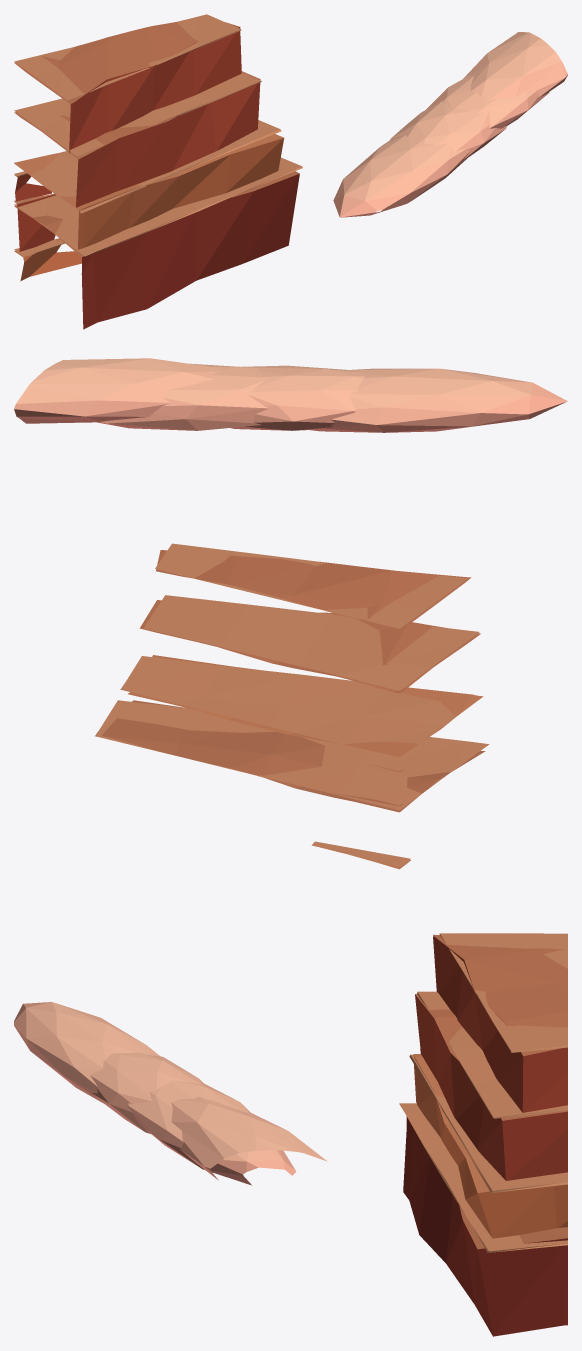
3 views of the same model, one above another, from view 1: azimuth 30°, elevation 25°; view 2: azimuth 150°, elevation 25°; view 3: azimuth 270°, elevation 25° (orthographic). The views are drawn at different scales.
Parts seen in each view (by area): view 1: scene.5.6 (×2); view 2: scene.5.6 (×2); view 3: scene.5.6 (×2).
Part boxes in pixels (x1,y1,x2,y2): scene.5.6 (×2): (14, 14, 567, 329); scene.5.6 (×2): (14, 358, 567, 869); scene.5.6 (×2): (14, 933, 567, 1336).
Size of the model in its own units: 62.5 by 35.05 by 62.5.
